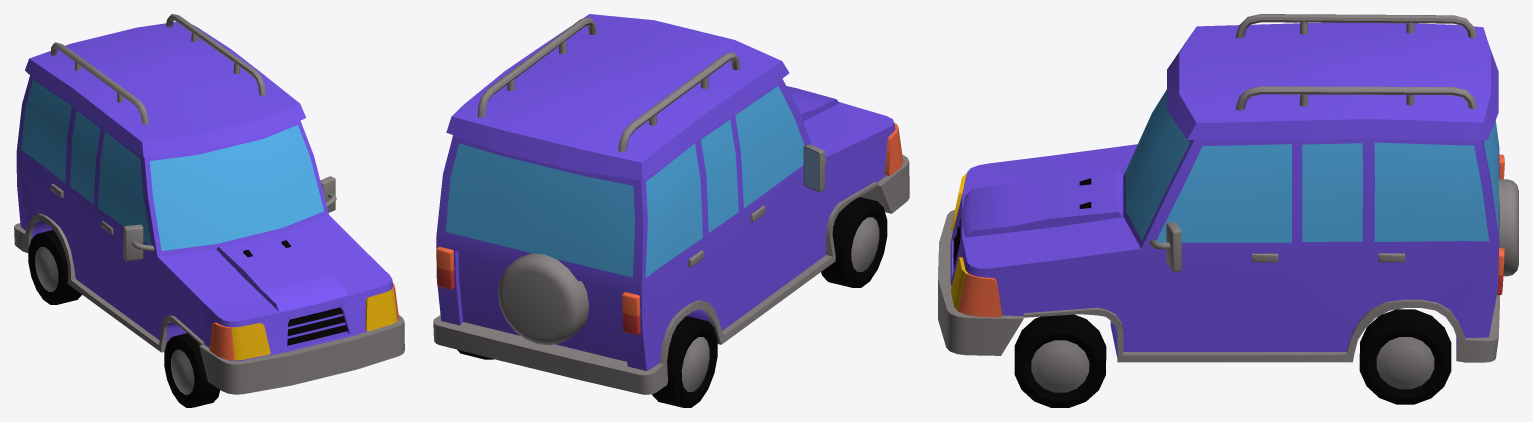
File: JEEP.fbx
3 renders of one model, left to right at view 1: azimuth 30°, elevation 25°; view 2: azimuth 150°, elevation 25°; view 3: azimuth 270°, elevation 25°, orthographic. The views are drawn at different scales.
Parts seen in each view (by area): view 1: JEEP, TYRE.004, TYRE.003; view 2: JEEP, TYRE.004, TYRE.003; view 3: JEEP, TYRE.002, TYRE.001.
Part boxes in pixels (x1,y1,x2,y2): JEEP: [14, 14, 404, 394]; TYRE.004: [164, 333, 220, 407]; TYRE.003: [28, 230, 81, 304]; JEEP: [433, 14, 909, 394]; TYRE.004: [821, 197, 887, 287]; TYRE.003: [652, 316, 717, 407]; JEEP: [938, 14, 1518, 362]; TYRE.002: [1359, 309, 1451, 404]; TYRE.001: [1014, 314, 1106, 407].
Size of the model in its own units: 251 by 273 by 478.
